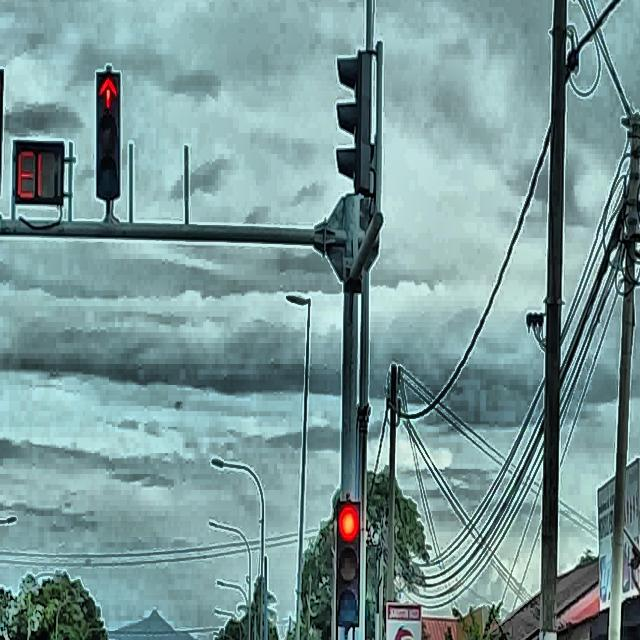red: (95, 71, 122, 201), (337, 500, 360, 630)
